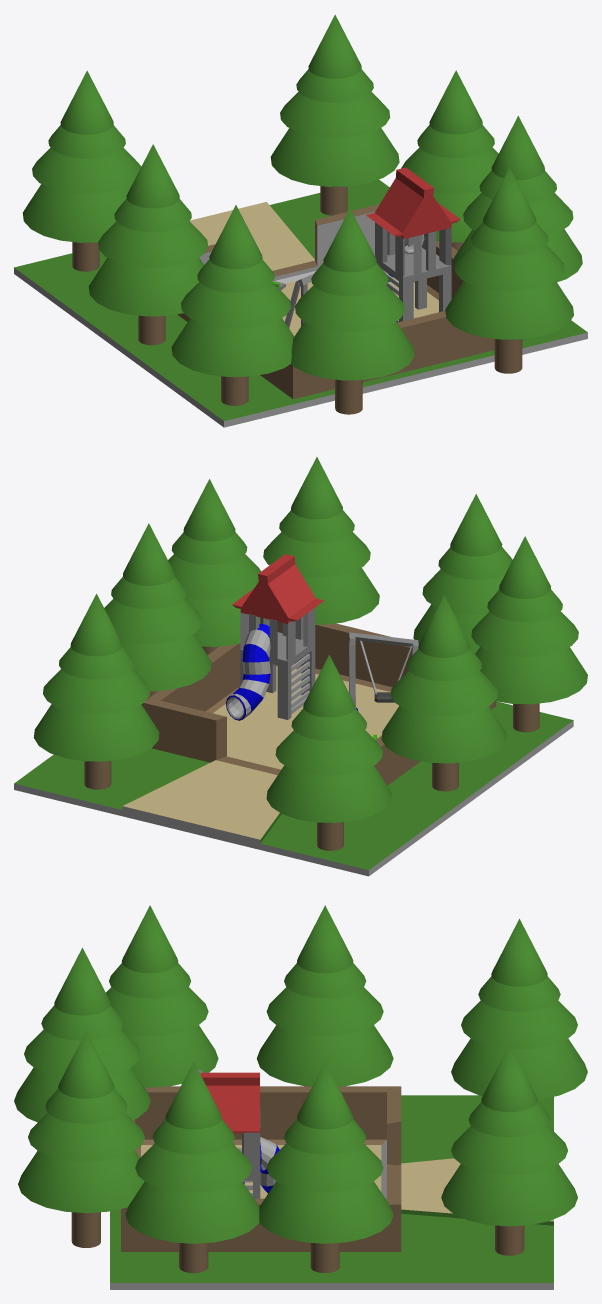
3 views of the same model, one above another, from view 1: azimuth 30°, elevation 25°; view 2: azimuth 150°, elevation 25°; view 3: azimuth 270°, elevation 25° (orthographic). The views are drawn at different scales.
Visible parts, largest first — view 1: numerouno; view 2: numerouno; view 3: numerouno.
Boxes of the visible parts, bbox=[...] form: numerouno: bbox=[14, 14, 587, 427]; numerouno: bbox=[14, 457, 587, 876]; numerouno: bbox=[14, 905, 587, 1289].
Size of the model in its own units: 310 by 145 by 351.
